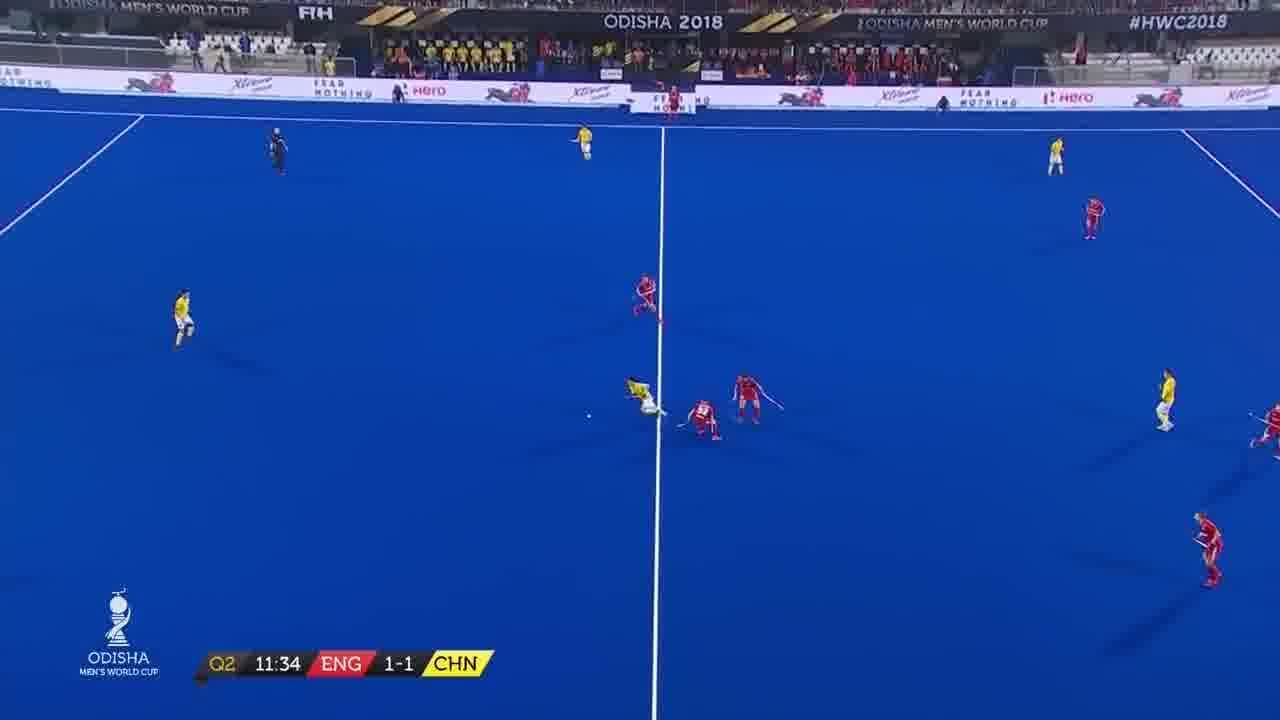ball: (582, 409, 598, 421)
